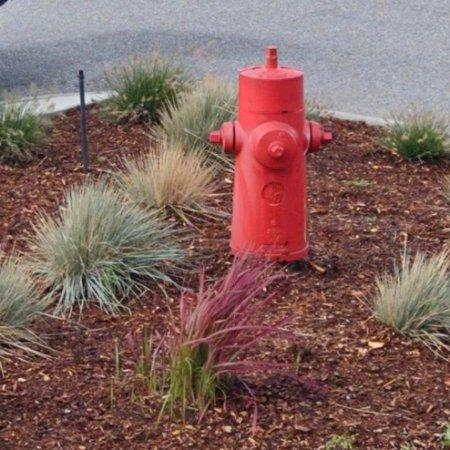a fire hydrant: (209, 46, 333, 261)
